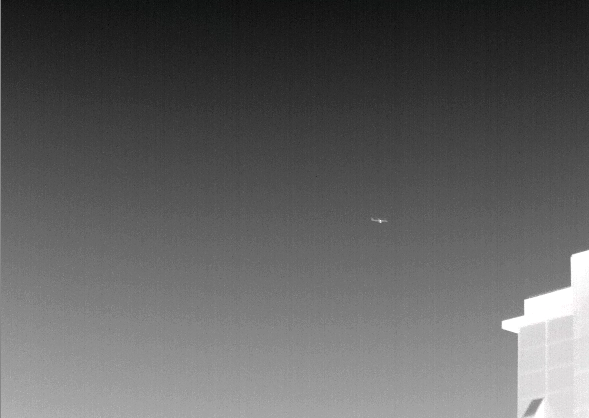dim target: (371, 217, 388, 224)
